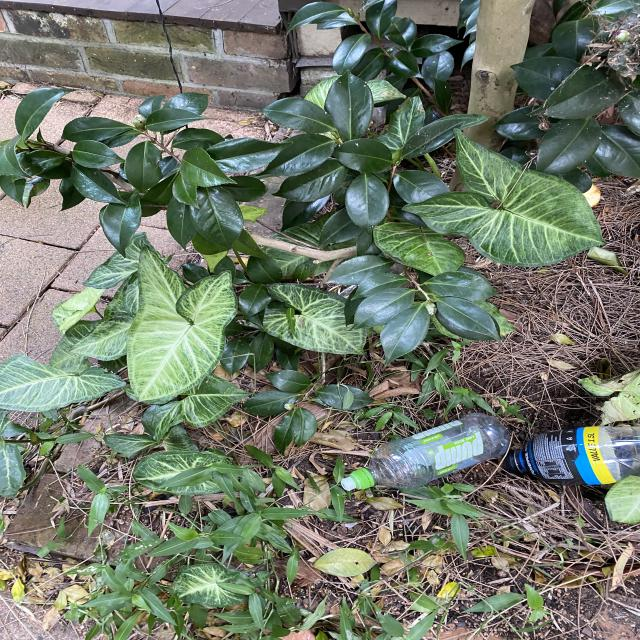bottle: (334, 413, 512, 500), (506, 419, 637, 498)
